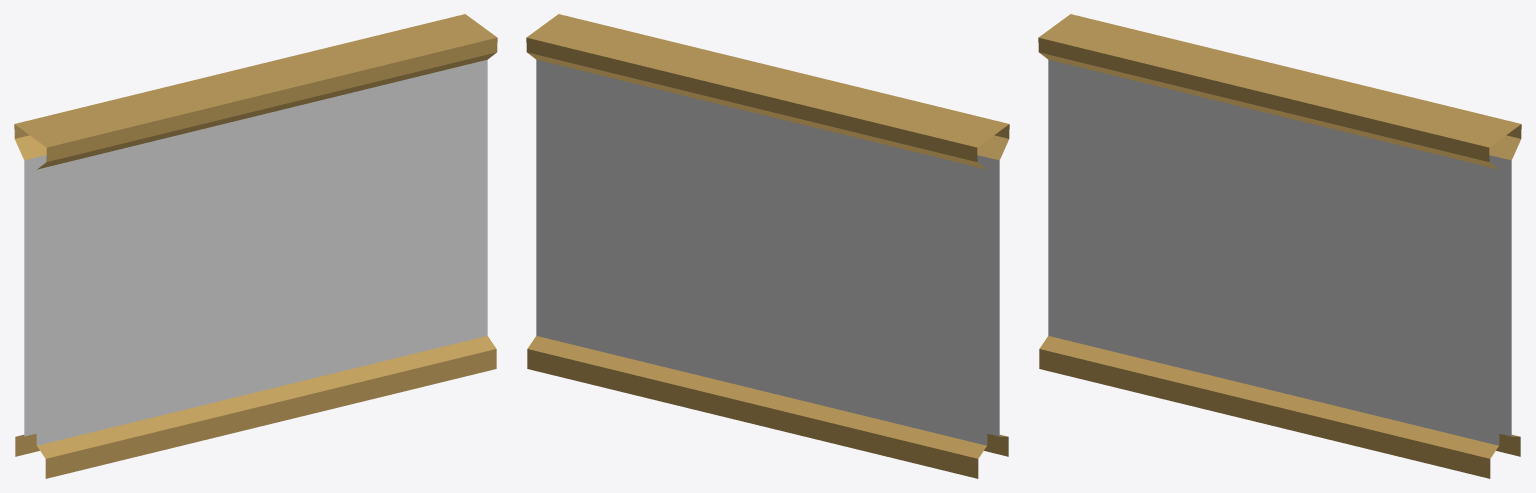
Rendered from wall test.fbx.
The picture shows the model from 3 angles, left to right: view 1: azimuth 30°, elevation 25°; view 2: azimuth 150°, elevation 25°; view 3: azimuth 330°, elevation 25°; orthographic projection.
Parts seen in each view (by area): view 1: Wall; view 2: Wall; view 3: Wall.
Part boxes in pixels (bbox=[...]): Wall: bbox=[14, 14, 497, 478]; Wall: bbox=[526, 14, 1009, 478]; Wall: bbox=[1038, 14, 1521, 478].
Size of the model in its own units: 4 by 2.82 by 0.4957.
